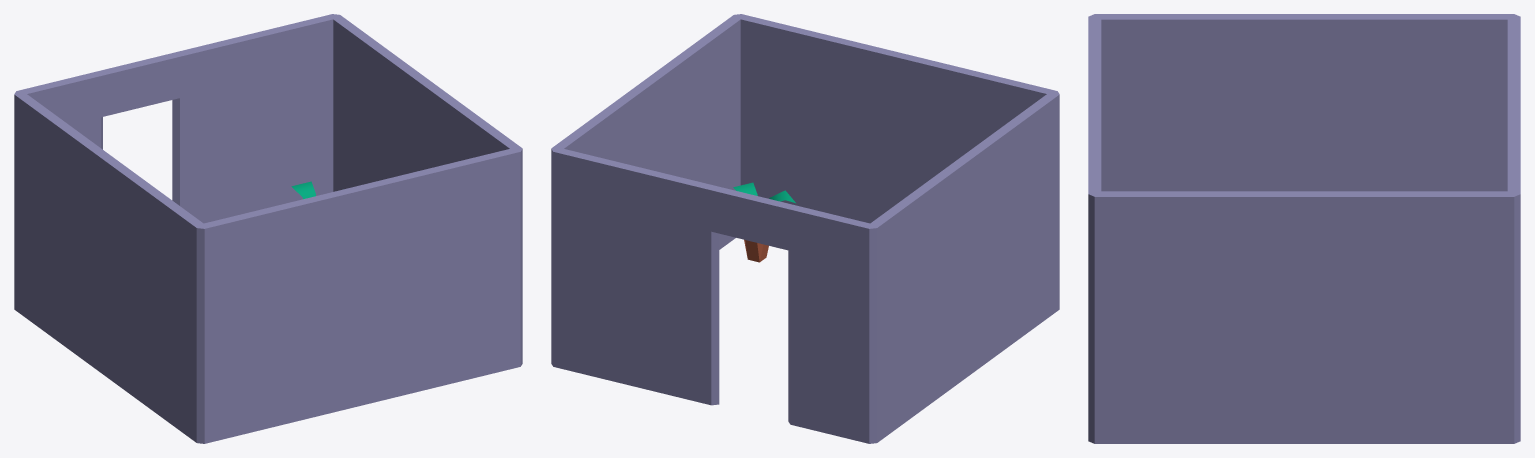
Rendered from Section1_1.obj.
The picture shows the model from 3 angles, left to right: view 1: azimuth 30°, elevation 25°; view 2: azimuth 150°, elevation 25°; view 3: azimuth 270°, elevation 25°; orthographic projection. The views are drawn at different scales.
Parts seen in each view (by area): view 1: mergedBlocks; view 2: mergedBlocks; view 3: mergedBlocks.
Part boxes in pixels (box(x1,y1,x2,y2)): mergedBlocks: box(14, 14, 522, 443); mergedBlocks: box(551, 14, 1059, 443); mergedBlocks: box(1088, 14, 1520, 443).
Bounding box in the file's own units: 4.13 × 2.6 × 4.13.
